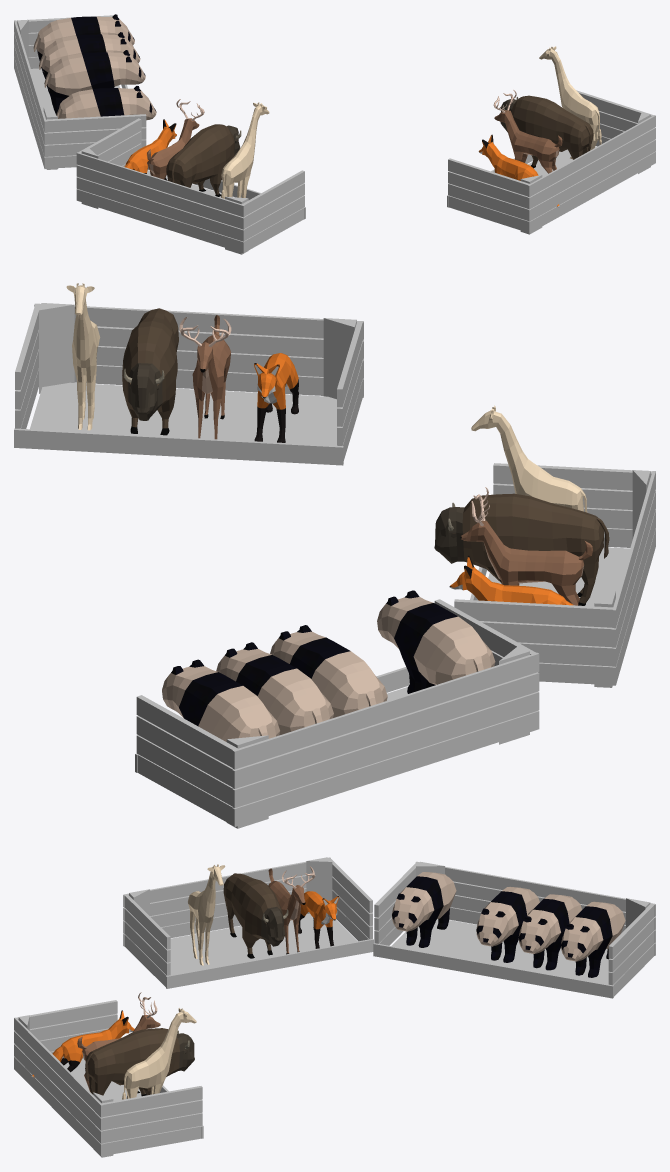
The model's file is peluches.obj.
3 views of the same model, one above another, from view 1: azimuth 30°, elevation 25°; view 2: azimuth 150°, elevation 25°; view 3: azimuth 270°, elevation 25° (orthographic). The views are drawn at different scales.
Visible parts, largest first — view 1: peluches:Box077, peluches:Box076, peluches:Box075, peluches:panda1, peluches:FBXASC0484bizonFinal2, peluches:FBXASC0484bizonFinal1, peluches:panda4, peluches:panda2, peluches:panda3, peluches:FBXASC0485deerFinal1, peluches:FBXASC0498girafFinal1, peluches:FBXASC0498girafFinal2 (+3 smaller); view 2: peluches:Box076, peluches:Box075, peluches:Box077, peluches:FBXASC0484bizonFinal2, peluches:panda4, peluches:panda3, peluches:FBXASC0484bizonFinal1, peluches:panda1, peluches:panda2, peluches:FBXASC0485deerFinal, peluches:FBXASC0498girafFinal1, peluches:FBXASC0485deerFinal1 (+3 smaller); view 3: peluches:Box077, peluches:Box075, peluches:Box076, peluches:FBXASC0484bizonFinal1, peluches:FBXASC0484bizonFinal2, peluches:panda4, peluches:panda3, peluches:panda2, peluches:panda1, peluches:FBXASC0498girafFinal2, peluches:FBXASC0498girafFinal1, peluches:FBXASC0485deerFinal (+3 smaller).
Boxes of the visible parts, box(x1,y1,x2,y2) form: peluches:Box077: box(76, 118, 305, 254); peluches:Box076: box(447, 90, 655, 234); peluches:Box075: box(14, 15, 146, 169); peluches:panda1: box(44, 50, 145, 114); peluches:FBXASC0484bizonFinal2: box(166, 124, 241, 196); peluches:FBXASC0484bizonFinal1: box(500, 95, 593, 168); peluches:panda4: box(56, 86, 156, 120); peluches:panda2: box(39, 32, 140, 93); peluches:panda3: box(33, 14, 134, 76); peluches:FBXASC0485deerFinal1: box(493, 89, 562, 173); peluches:FBXASC0498girafFinal1: box(221, 102, 269, 198); peluches:FBXASC0498girafFinal2: box(539, 46, 601, 159); peluches:Box076: box(14, 303, 363, 465); peluches:Box075: box(135, 599, 539, 828); peluches:Box077: box(454, 463, 655, 687); peluches:FBXASC0484bizonFinal2: box(434, 493, 609, 605); peluches:panda4: box(377, 590, 495, 693); peluches:panda3: box(162, 659, 279, 741); peluches:FBXASC0484bizonFinal1: box(122, 308, 178, 435); peluches:panda1: box(270, 625, 387, 717); peluches:panda2: box(216, 642, 333, 735); peluches:FBXASC0485deerFinal: box(460, 487, 592, 605); peluches:FBXASC0498girafFinal1: box(471, 405, 587, 512); peluches:FBXASC0485deerFinal1: box(179, 315, 231, 439); peluches:Box077: box(123, 857, 373, 988); peluches:Box075: box(373, 861, 655, 998); peluches:Box076: box(14, 1000, 203, 1157); peluches:FBXASC0484bizonFinal1: box(85, 1028, 194, 1096); peluches:FBXASC0484bizonFinal2: box(223, 873, 288, 958); peluches:panda4: box(392, 872, 456, 947); peluches:panda3: box(561, 901, 625, 977); peluches:panda2: box(518, 894, 581, 970); peluches:panda1: box(476, 886, 539, 962); peluches:FBXASC0498girafFinal2: box(122, 1008, 196, 1099); peluches:FBXASC0498girafFinal1: box(188, 864, 225, 965); peluches:FBXASC0485deerFinal: box(268, 866, 315, 954).
Bounding box in the file's own units: 17.08 × 3.72 × 18.67.
